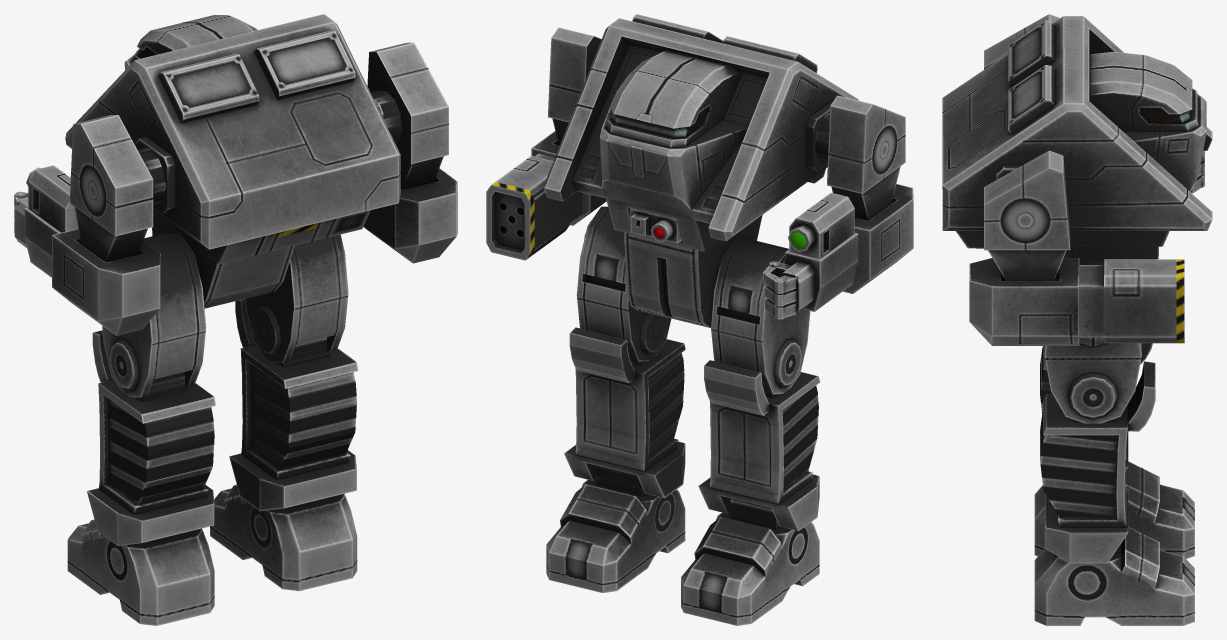
Rendered from Phantom_Prime.FBX.
The picture shows the model from 3 angles, left to right: view 1: azimuth 30°, elevation 25°; view 2: azimuth 150°, elevation 25°; view 3: azimuth 270°, elevation 25°; orthographic projection. The views are drawn at different scales.
Parts seen in each view (by area): view 1: torso, llowerleg, rlowerleg, llowerarm, lfoot, rfoot, lupperarm, lupperleg, rupperleg, rupperarm, rlowerarm, pelvis (+1 smaller); view 2: torso, rlowerleg, llowerleg, rfoot, lfoot, lupperleg, llowerarm, lupperarm, rlowerarm, pelvis, rupperleg, rupperarm (+2 smaller); view 3: torso, rlowerarm, rlowerleg, rfoot, rupperarm, rupperleg, lfoot, pelvis, lupperarm, llowerleg.
Boxes of the visible parts, x1,y1,x2,y2 form: torso: (65, 14, 400, 263); llowerleg: (87, 330, 215, 545); rlowerleg: (229, 299, 358, 511); llowerarm: (24, 165, 160, 335); lfoot: (67, 519, 214, 625); rfoot: (210, 484, 357, 591); lupperarm: (69, 115, 165, 262); lupperleg: (102, 233, 206, 397); rupperleg: (245, 234, 348, 362); rupperarm: (367, 42, 448, 189); rlowerarm: (363, 168, 457, 263); pelvis: (152, 209, 294, 308); torso: (544, 14, 858, 251); rlowerleg: (564, 327, 685, 498); llowerleg: (698, 360, 820, 530); rfoot: (546, 465, 685, 592); lfoot: (681, 498, 819, 625); lupperleg: (711, 239, 810, 394); llowerarm: (785, 184, 913, 311); lupperarm: (815, 95, 905, 220); rlowerarm: (486, 131, 606, 260); pelvis: (624, 215, 762, 327); rupperleg: (576, 206, 671, 361); rupperarm: (547, 27, 601, 145); torso: (942, 16, 1212, 248); rlowerarm: (969, 258, 1184, 345); rlowerleg: (1040, 361, 1155, 563); rfoot: (1034, 527, 1194, 625); rupperarm: (984, 150, 1070, 281); rupperleg: (1044, 259, 1141, 423); lfoot: (1034, 461, 1194, 558); pelvis: (1064, 246, 1158, 263); lupperarm: (984, 14, 1059, 69); llowerleg: (1040, 343, 1152, 470).
Size of the model in its own units: 34.06 by 49.47 by 23.45.
Materials: 1 (1 with a texture image).
